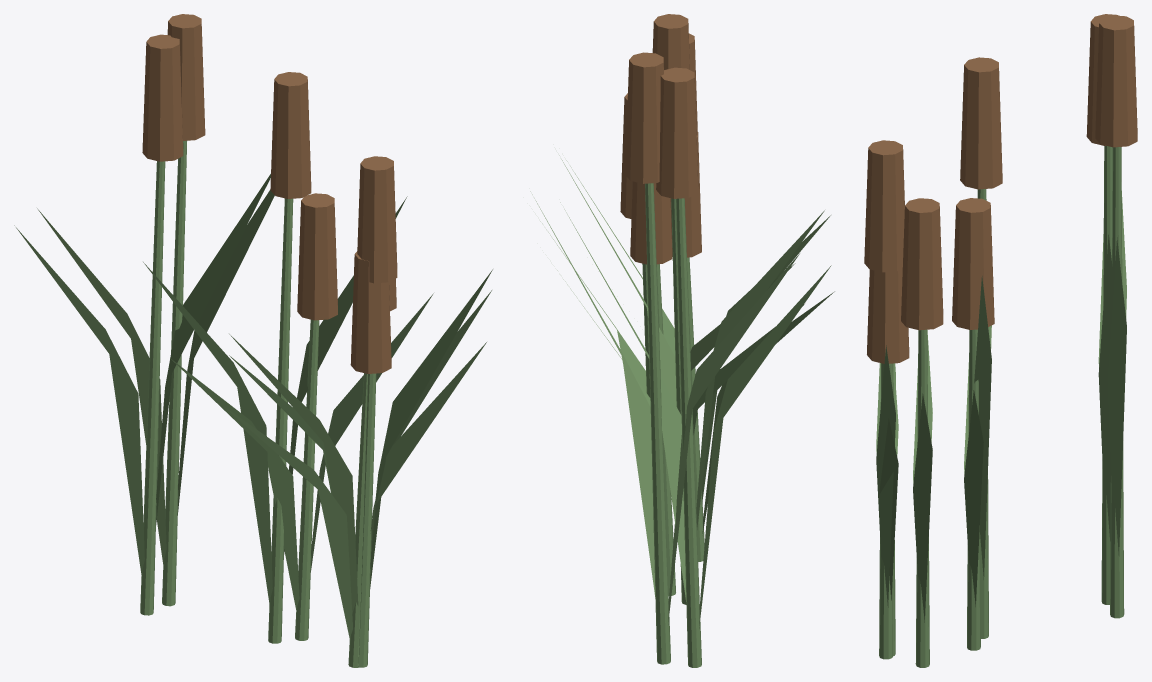
File: reeds.glb
3 renders of one model, left to right at view 1: azimuth 30°, elevation 25°; view 2: azimuth 150°, elevation 25°; view 3: azimuth 270°, elevation 25°, orthographic. The views are drawn at different scales.
Visible parts, largest first — view 1: Cattails; view 2: Cattails; view 3: Cattails.
Boxes of the visible parts, x1,y1,x2,y2 form: Cattails: (14, 14, 492, 667); Cattails: (530, 14, 834, 667); Cattails: (864, 14, 1137, 667).
Size of the model in its own units: 1.17 by 1.66 by 0.6864.
